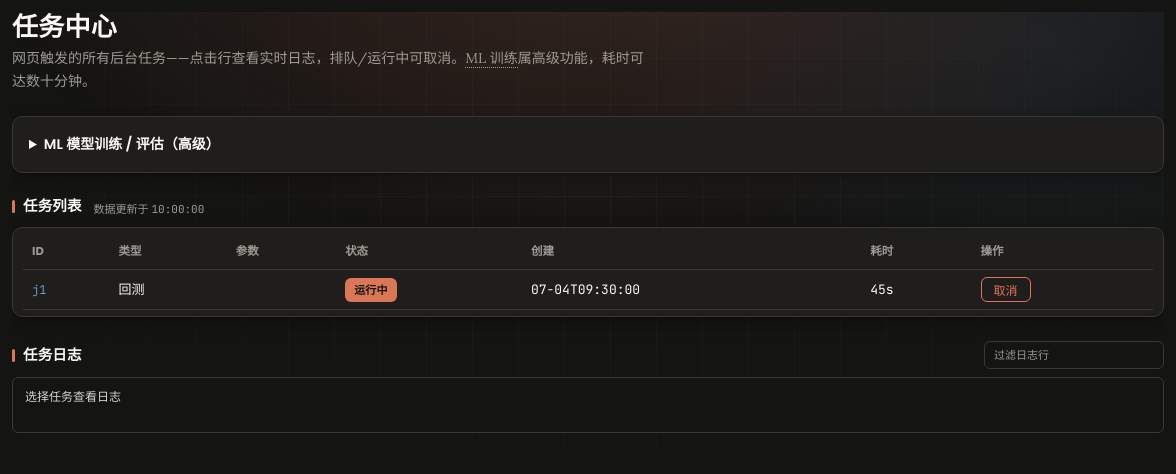
Test: Jobs 日志过滤框 › 无命中: 面板清空, 计数 0/N 行说明非日志缺失
The width and height of the screenshot is (1176, 474).
Click the row with test id "job-row" at (588, 290), box [23,270,1153,310]
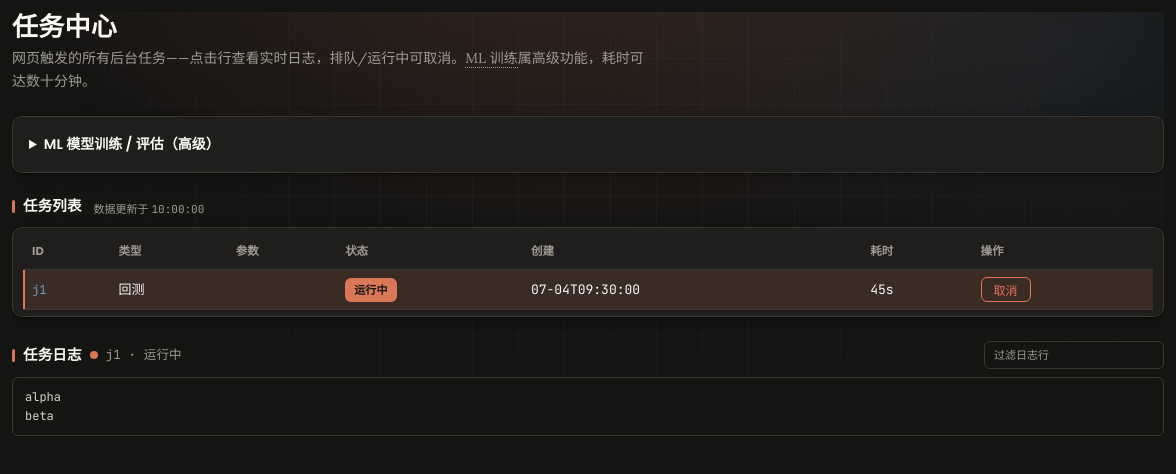
Type "zzz" into the search field with test id "job-log-filter" at (1074, 355), box [984,341,1164,369]
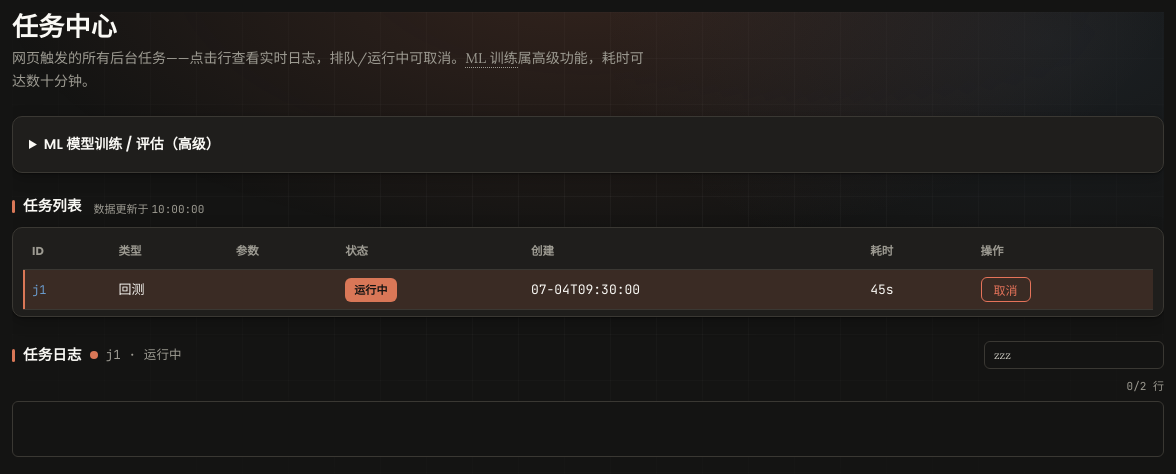
Expected: the element with test id "job-log" is empty, [12,401,1164,457]
Expected: the text with test id "job-log-filter-count" reads "0/2 行", [1127,379,1164,393]
